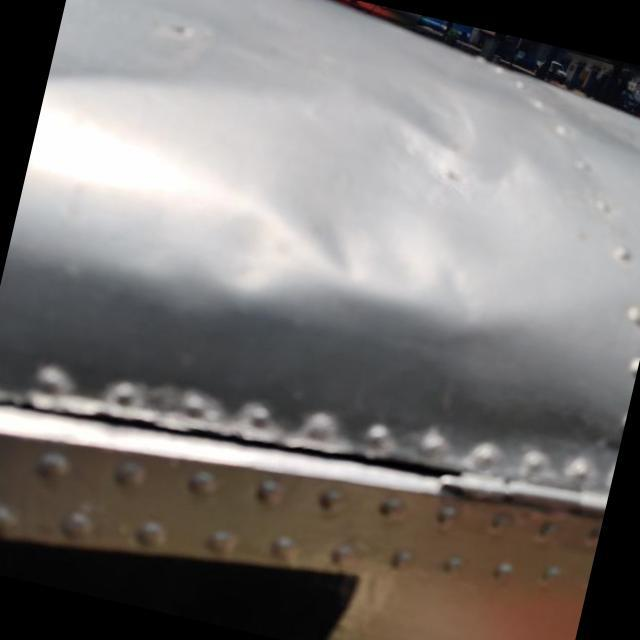Dent: (242, 147, 435, 316)
